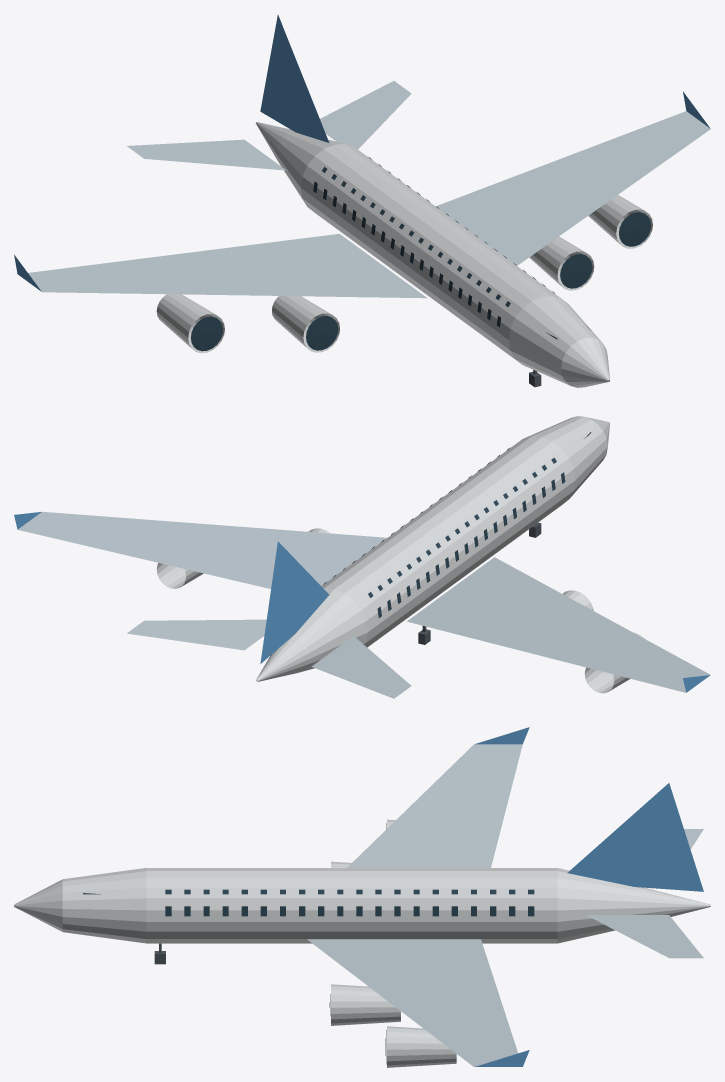
Rendered from a380-UAL.gltf.
The picture shows the model from 3 angles, top to bottom: view 1: azimuth 30°, elevation 25°; view 2: azimuth 150°, elevation 25°; view 3: azimuth 270°, elevation 25°; orthographic projection.
Parts seen in each view (by area): view 1: object 1; view 2: object 1; view 3: object 1.
Part boxes in pixels (bbox=[...]): object 1: bbox=[14, 15, 710, 387]; object 1: bbox=[14, 416, 710, 698]; object 1: bbox=[14, 727, 710, 1067].
Size of the model in its own units: 80 by 20.82 by 73.
